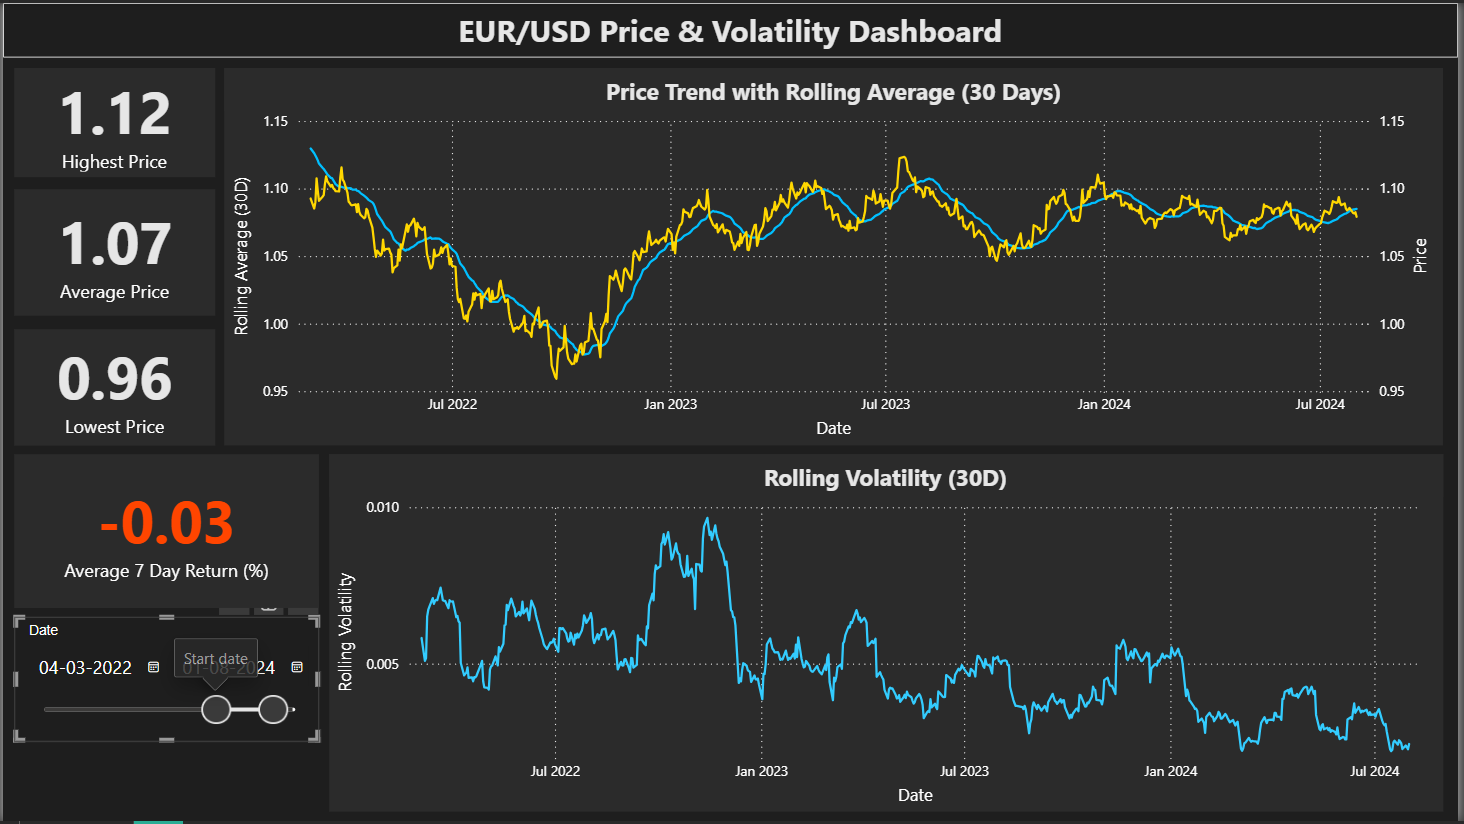

The dashboard page shown, as its layout file describes it:
{"tool":"powerbi","page":{"name":"USD/EUR","canvas":[1280,720],"ordinal":0},"visuals":[{"type":"card","fields":{"Values":["EUR_USD Historical Data.Higesht Price"]},"box":[9.9,57.4,176.6,96],"z":0},{"type":"card","fields":{"Values":["EUR_USD Historical Data.Average Price"]},"box":[9.9,163.8,177,111.1],"z":1000},{"type":"card","fields":{"Values":["EUR_USD Historical Data.Lowest Price"]},"box":[9.9,287,177,102.3],"z":2000},{"type":"lineChart","title":"Price Trend with Rolling Average (30 Days)","fields":{"Y":["EUR_USD Historical Data.Rolling Average (30D)"],"Y2":["Avg(EUR_USD Historical Data.Price)"],"Category":["EUR_USD Historical Data.Date"]},"box":[194.6,57.2,1072.1,332.1],"z":3000},{"type":"slicer","fields":{"Values":["EUR_USD Historical Data.Date"]},"box":[9.9,539.9,268.3,110],"z":4000},{"type":"card","fields":{"Values":["EUR_USD Historical Data.Average 7 Day Return (%)"]},"box":[9.9,396.9,268.3,135.2],"z":5000},{"type":"lineChart","title":"Rolling Volatility (30D)","fields":{"Y":["EUR_USD Historical Data.Rolling Volatility (30D)"],"Category":["EUR_USD Historical Data.Date"]},"box":[287,396.9,979.7,314.5],"z":6000},{"type":"textbox","box":[0,0,1279.9,48.4],"z":7000}]}

Visuals, with their boxes in screenshot pixels (x1, y1, x2, y2), scaled from the page's 1280x720 canvas onto the 1464x824 screenshot:
card - EUR_USD Historical Data.Higesht Price: <bbox>11, 66, 213, 176</bbox>
card - EUR_USD Historical Data.Average Price: <bbox>11, 187, 214, 315</bbox>
card - EUR_USD Historical Data.Lowest Price: <bbox>11, 328, 214, 446</bbox>
"Price Trend with Rolling Average (30 Days)" lineChart: <bbox>223, 65, 1449, 446</bbox>
slicer - EUR_USD Historical Data.Date: <bbox>11, 618, 318, 744</bbox>
card - EUR_USD Historical Data.Average 7 Day Return (%): <bbox>11, 454, 318, 609</bbox>
"Rolling Volatility (30D)" lineChart: <bbox>328, 454, 1449, 814</bbox>
textbox: <bbox>0, 0, 1463, 55</bbox>
